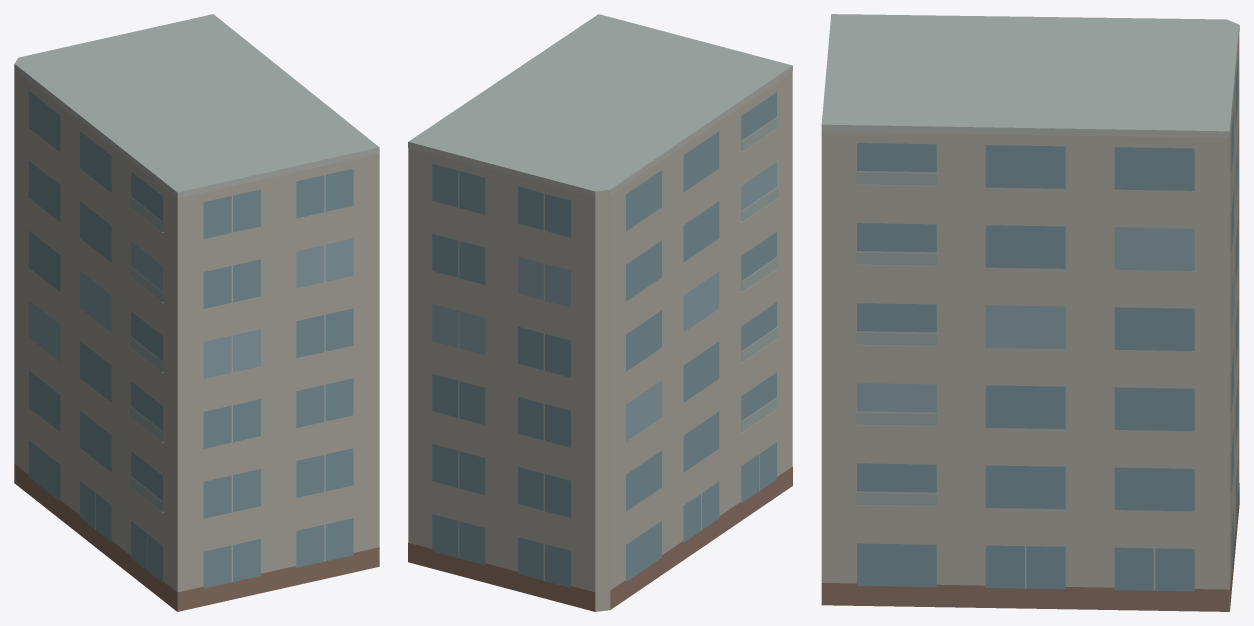
The model's file is survey-upis-32580966.glb.
The picture shows the model from 3 angles, left to right: view 1: azimuth 30°, elevation 25°; view 2: azimuth 150°, elevation 25°; view 3: azimuth 270°, elevation 25°; orthographic projection. The views are drawn at different scales.
Visible parts, largest first — view 1: survey-upis-32580966.tmp; view 2: survey-upis-32580966.tmp; view 3: survey-upis-32580966.tmp.
Part boxes in pixels (box(x1,y1,x2,y2)): survey-upis-32580966.tmp: box(14, 14, 379, 611); survey-upis-32580966.tmp: box(408, 14, 792, 611); survey-upis-32580966.tmp: box(821, 14, 1239, 611).
Bounding box in the file's own units: 9.01 × 17.2 × 13.56.
